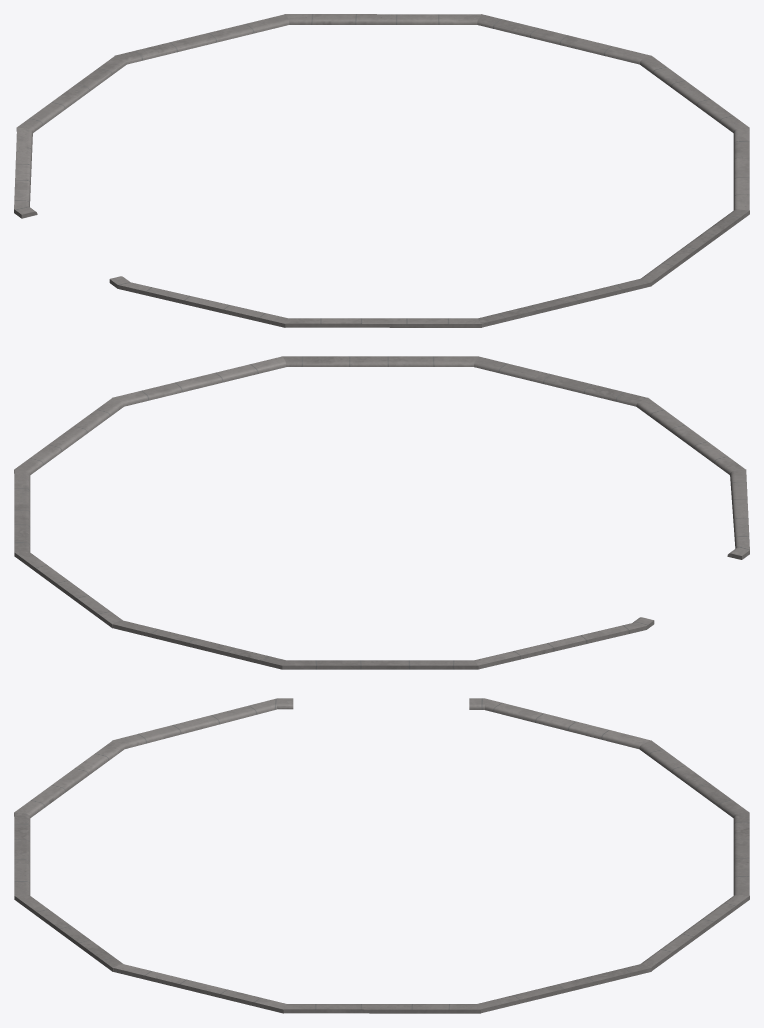
The model's file is RoundAbout_SideWalk.fbx.
The picture shows the model from 3 angles, top to bottom: view 1: azimuth 30°, elevation 25°; view 2: azimuth 150°, elevation 25°; view 3: azimuth 270°, elevation 25°; orthographic projection.
Visible parts, largest first — view 1: Round_SideWalk; view 2: Round_SideWalk; view 3: Round_SideWalk.
Part boxes in pixels (bbox=[...]): Round_SideWalk: bbox=[14, 14, 749, 327]; Round_SideWalk: bbox=[14, 356, 749, 669]; Round_SideWalk: bbox=[14, 698, 749, 1013].
Bounding box in the file's own units: 1999 × 1998 × 11.97.
